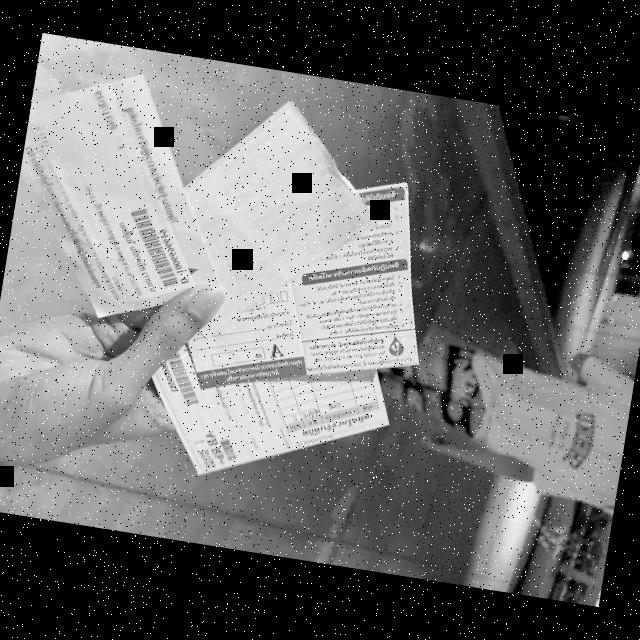scrap_paper: (160, 142, 452, 425), (0, 57, 251, 349), (162, 85, 390, 351), (144, 297, 405, 511)
